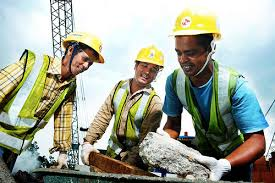hard hat: (170, 6, 222, 38), (62, 32, 105, 64), (134, 44, 164, 68)
high-vis: (1, 49, 76, 153), (171, 61, 243, 146), (111, 80, 158, 151)
